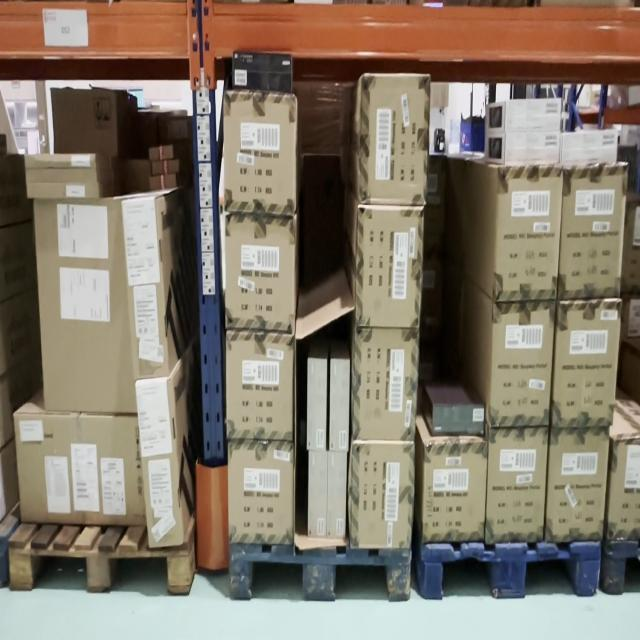box: (40, 200, 123, 409), (16, 416, 140, 524), (223, 92, 296, 212), (364, 78, 430, 203), (555, 303, 618, 429), (224, 218, 296, 328), (138, 381, 184, 547), (126, 200, 164, 395), (362, 206, 422, 328), (564, 166, 621, 294), (501, 171, 558, 296), (495, 303, 553, 423), (488, 427, 546, 545), (357, 328, 418, 440), (227, 333, 292, 438), (549, 429, 605, 543), (229, 443, 292, 544), (426, 441, 485, 543), (353, 448, 413, 548), (49, 93, 113, 155), (610, 442, 639, 542), (236, 55, 294, 92), (564, 130, 619, 162), (506, 100, 563, 130), (432, 404, 484, 436), (329, 450, 347, 540), (507, 133, 562, 162), (622, 200, 639, 292), (332, 358, 349, 449), (310, 358, 326, 448), (29, 180, 96, 200), (310, 452, 325, 536), (26, 156, 95, 170)
